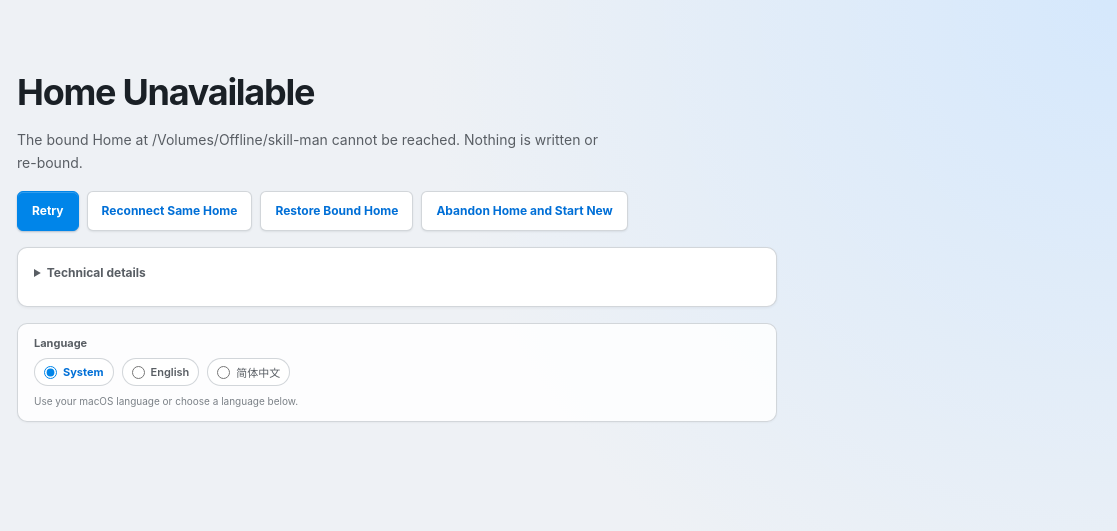
Test: Reconnect command failure surfaces the typed error
Click the button "Reconnect Same Home".
click(170, 210)  # box [87, 190, 252, 230]
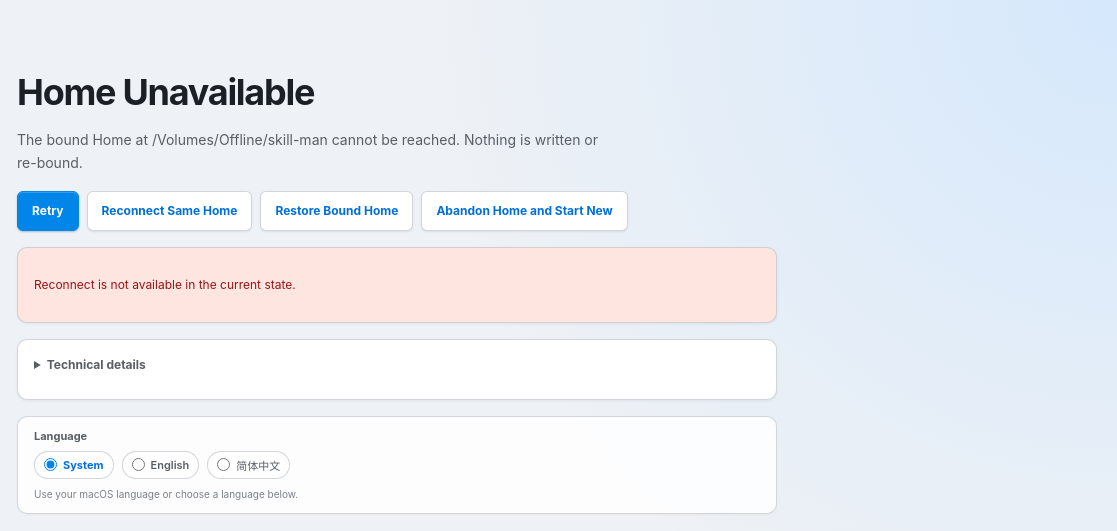
Now the message "Reconnect is not available in the current state." is shown, box [17, 246, 777, 323]
